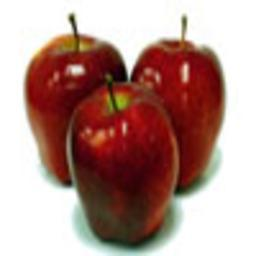apple: (66, 82, 177, 247), (23, 33, 127, 184), (132, 39, 225, 193)
